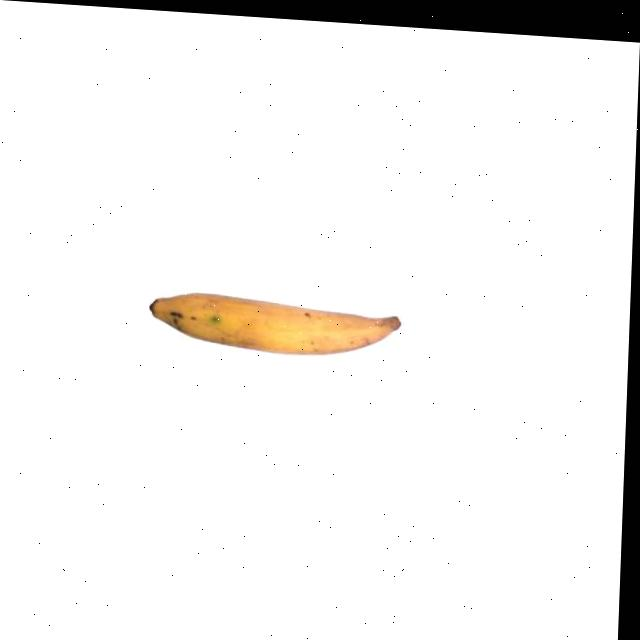banana: (144, 286, 406, 366)
